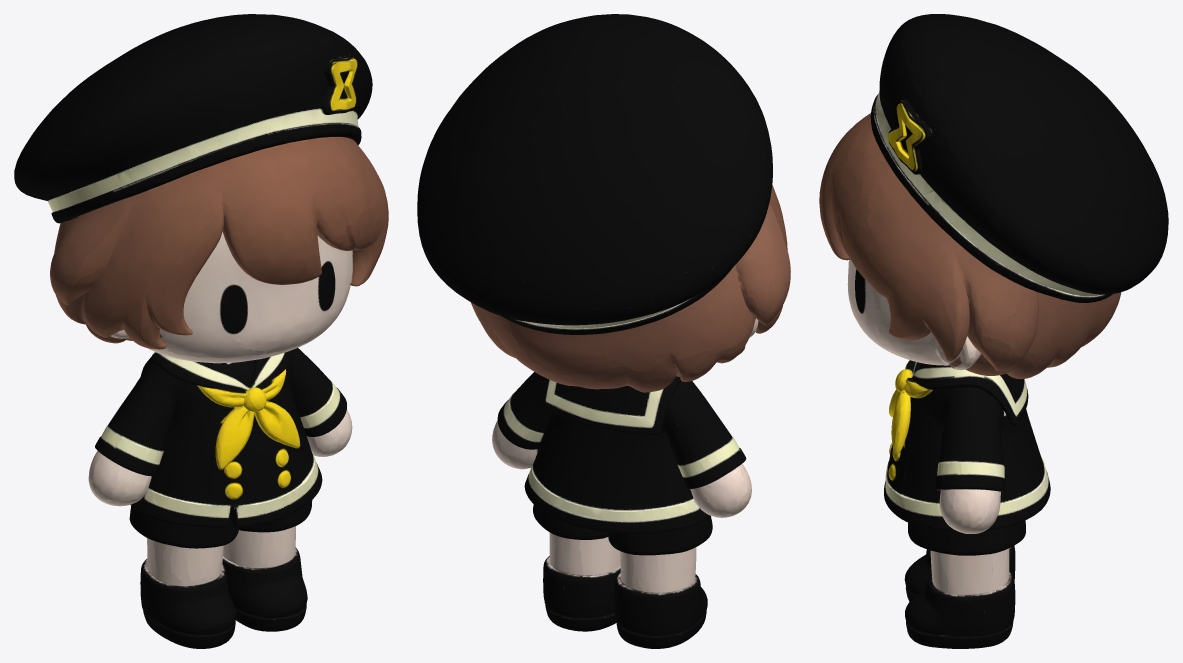
The model's file is chibi.glb.
3 renders of one model, left to right at view 1: azimuth 30°, elevation 25°; view 2: azimuth 150°, elevation 25°; view 3: azimuth 270°, elevation 25°, orthographic.
Visible parts, largest first — view 1: HourglassChibi; view 2: HourglassChibi; view 3: HourglassChibi.
Part boxes in pixels (x1,y1,x2,y2): HourglassChibi: [14, 14, 388, 648]; HourglassChibi: [417, 14, 790, 648]; HourglassChibi: [819, 14, 1168, 648].
Size of the model in its own units: 0.9388 by 1.62 by 0.8708.
Materials: 1 (1 with a texture image).
